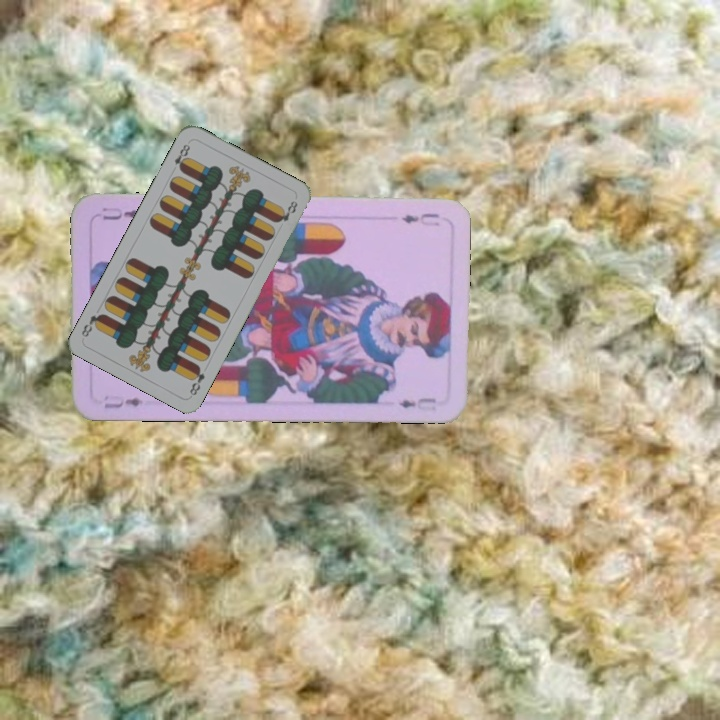E8: (185, 362, 207, 398), (170, 140, 193, 174)
EU: (100, 390, 146, 411), (398, 209, 442, 229)
